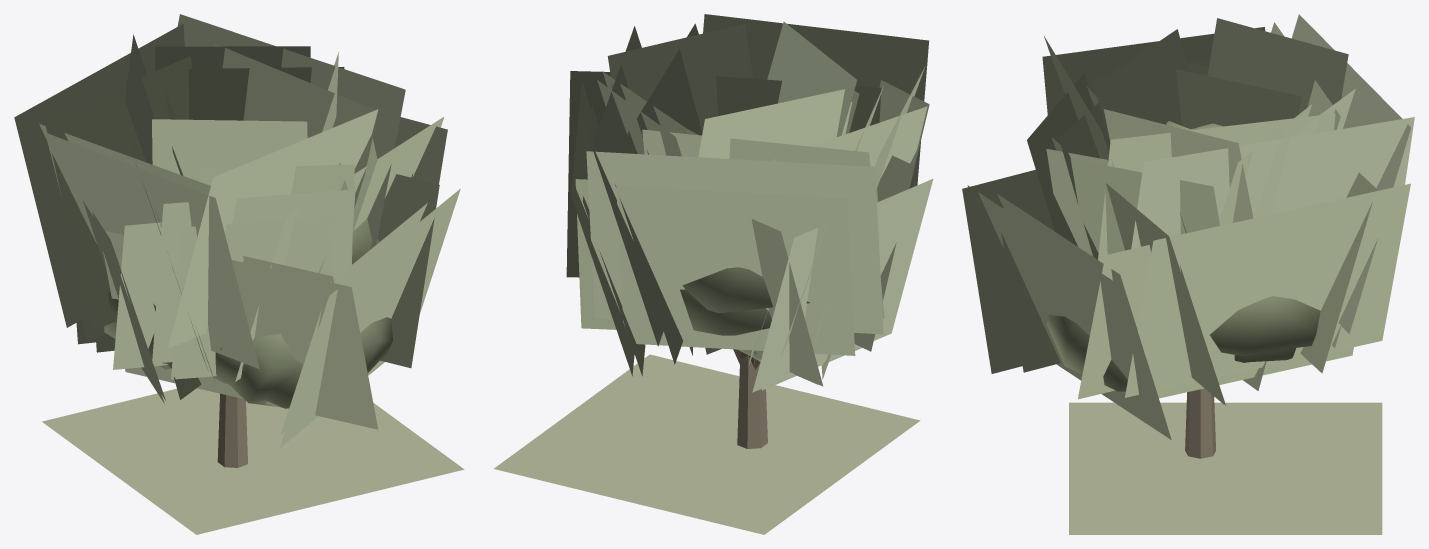
The picture shows the model from 3 angles, left to right: view 1: azimuth 30°, elevation 25°; view 2: azimuth 150°, elevation 25°; view 3: azimuth 270°, elevation 25°; orthographic projection.
Parts seen in each view (by area): view 1: Near, Mid, Far; view 2: Near, Mid; view 3: Near, Mid.
Part boxes in pixels (x1,y1,x2,y2): Near: (39, 34, 464, 534); Mid: (14, 14, 460, 447); Far: (108, 218, 379, 406); Near: (494, 14, 928, 534); Mid: (566, 26, 933, 392); Near: (994, 18, 1382, 534); Mid: (962, 14, 1414, 439).
Size of the model in its own units: 1.36 by 1.36 by 1.45.
